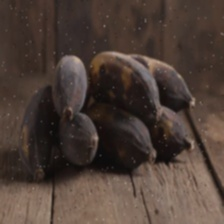banana: (17, 0, 191, 193)
